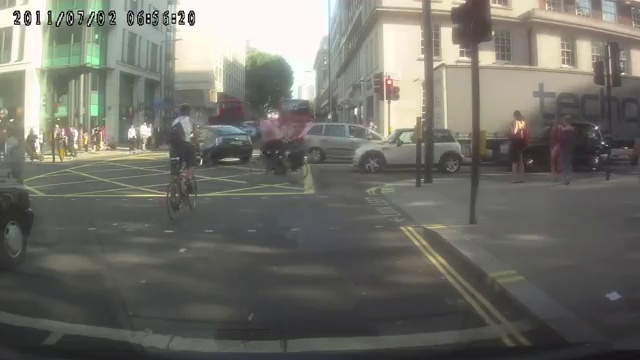cyclist_back: (164, 102, 203, 224)
